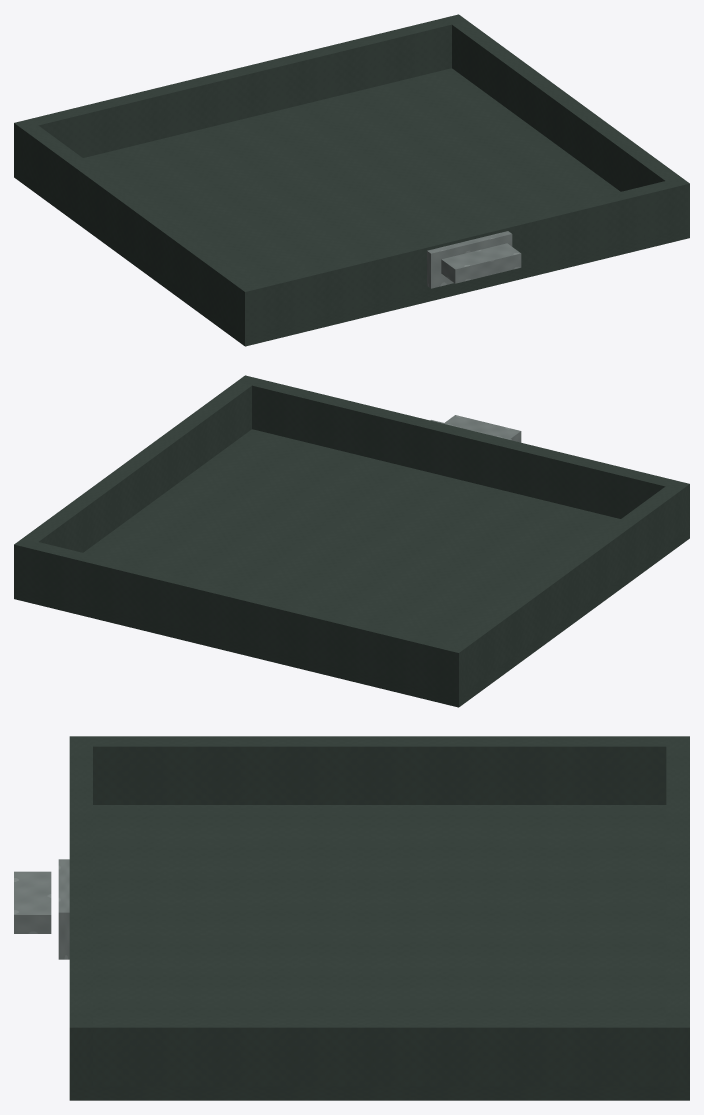
File: PZ_Mossfield_CompostBin_RemovableDrainageTray_SLIDE_PIVOT.glb
3 views of the same model, one above another, from view 1: azimuth 30°, elevation 25°; view 2: azimuth 150°, elevation 25°; view 3: azimuth 270°, elevation 25° (orthographic). The views are drawn at different scales.
Parts seen in each view (by area): view 1: TRAY_LeakCollection_Floor, TRAY_RaisedLip_BACK, TRAY_RaisedLip_FRONT, TRAY_RaisedLip_LEFT, TRAY_RaisedLip_RIGHT, TRAY_FrontFingerPull_Grip, TRAY_FrontFingerPull_BackingPlate; view 2: TRAY_LeakCollection_Floor, TRAY_RaisedLip_BACK, TRAY_RaisedLip_FRONT, TRAY_RaisedLip_LEFT, TRAY_RaisedLip_RIGHT, TRAY_FrontFingerPull_Grip; view 3: TRAY_LeakCollection_Floor, TRAY_RaisedLip_RIGHT, TRAY_RaisedLip_LEFT, TRAY_RaisedLip_FRONT, TRAY_RaisedLip_BACK, TRAY_FrontFingerPull_Grip, TRAY_FrontFingerPull_BackingPlate.
Boxes of the visible parts, x1,y1,x2,y2 form: TRAY_LeakCollection_Floor: [14, 68, 689, 346]; TRAY_RaisedLip_BACK: [14, 14, 467, 172]; TRAY_RaisedLip_FRONT: [236, 178, 689, 335]; TRAY_RaisedLip_LEFT: [22, 124, 252, 328]; TRAY_RaisedLip_RIGHT: [451, 21, 681, 191]; TRAY_FrontFingerPull_Grip: [441, 243, 521, 283]; TRAY_FrontFingerPull_BackingPlate: [427, 231, 512, 288]; TRAY_LeakCollection_Floor: [14, 429, 689, 707]; TRAY_RaisedLip_BACK: [14, 539, 467, 696]; TRAY_RaisedLip_FRONT: [236, 375, 689, 533]; TRAY_RaisedLip_LEFT: [451, 485, 681, 689]; TRAY_RaisedLip_RIGHT: [22, 381, 251, 552]; TRAY_FrontFingerPull_Grip: [445, 415, 521, 442]; TRAY_LeakCollection_Floor: [69, 805, 689, 1100]; TRAY_RaisedLip_RIGHT: [90, 1017, 669, 1086]; TRAY_RaisedLip_LEFT: [89, 736, 669, 804]; TRAY_RaisedLip_FRONT: [69, 736, 92, 1086]; TRAY_RaisedLip_BACK: [666, 736, 689, 1086]; TRAY_FrontFingerPull_Grip: [14, 871, 51, 933]; TRAY_FrontFingerPull_BackingPlate: [58, 859, 69, 959].
Size of the model in its own units: 0.85 by 0.1 by 0.8335.
2 materials, 2 textured.
